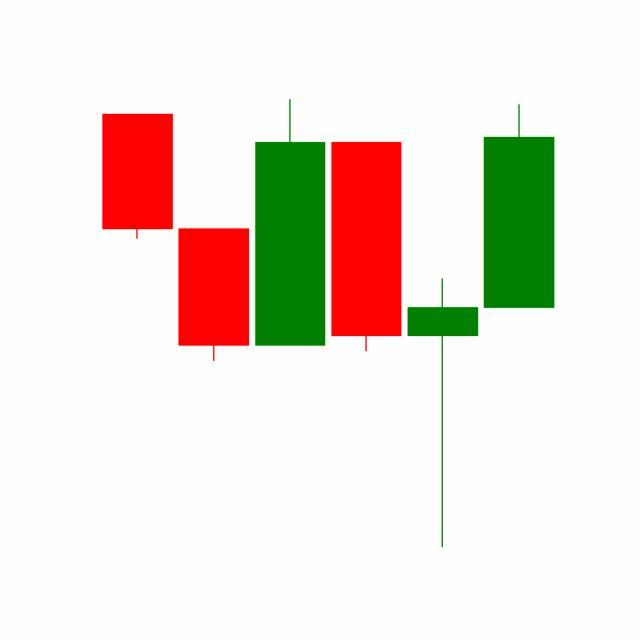Spinning Top: (404, 277, 482, 552)
